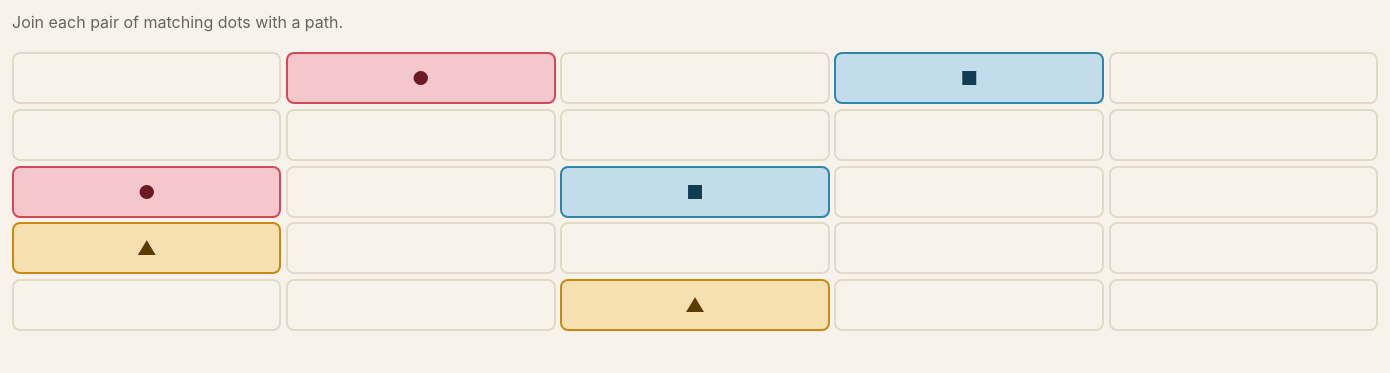
Scenario: ConnectDotsGame › says which pair is being drawn and when one is connected
Click the 2nd button "■": (695, 192) [560,166,830,218]
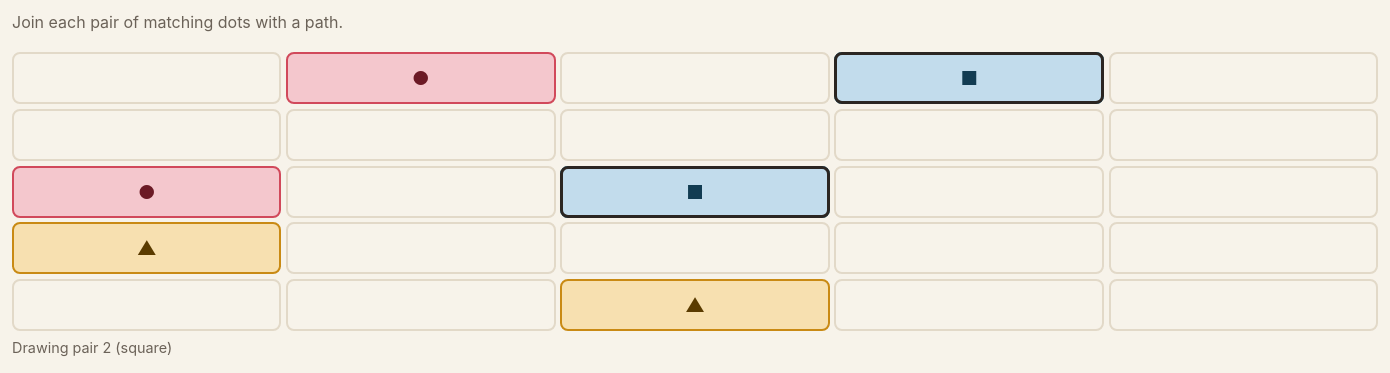
Result: the text "Drawing pair 2 (square)" is shown at [12,339,172,356]
Click the 2nd button "●": (147, 192) [12,166,281,218]
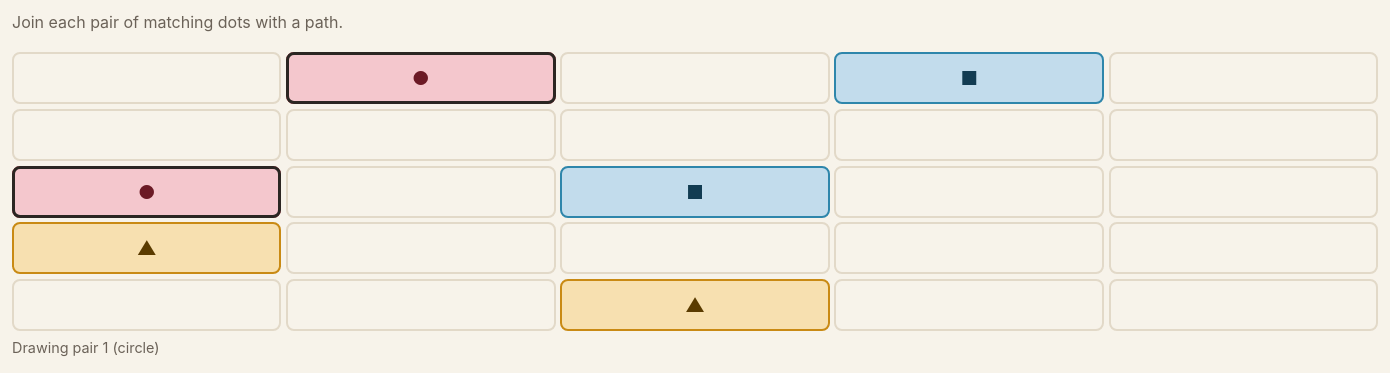
Click the button named "Row 2, column 1, empty": (147, 135) [12,109,281,161]
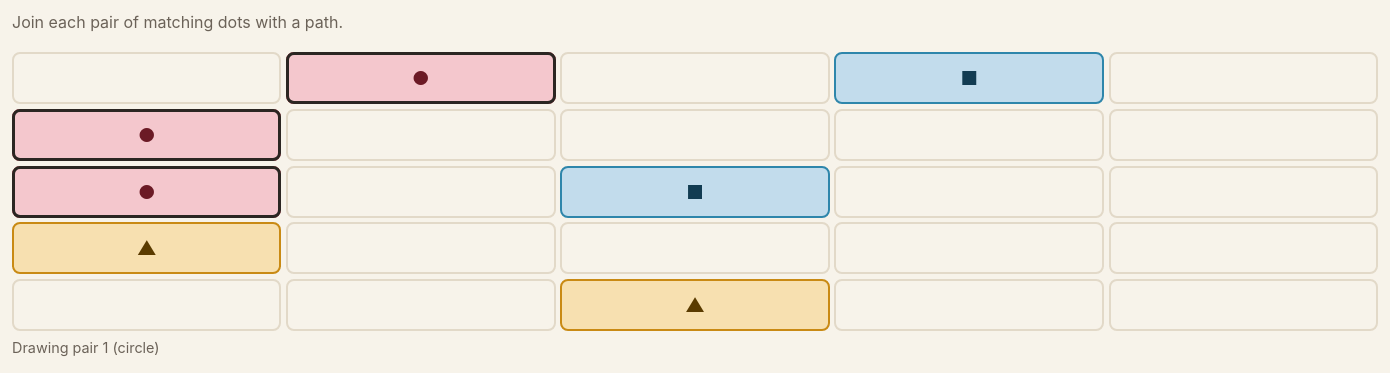
Click the button named "Row 1, column 1, empty": (147, 78) [12,52,281,104]
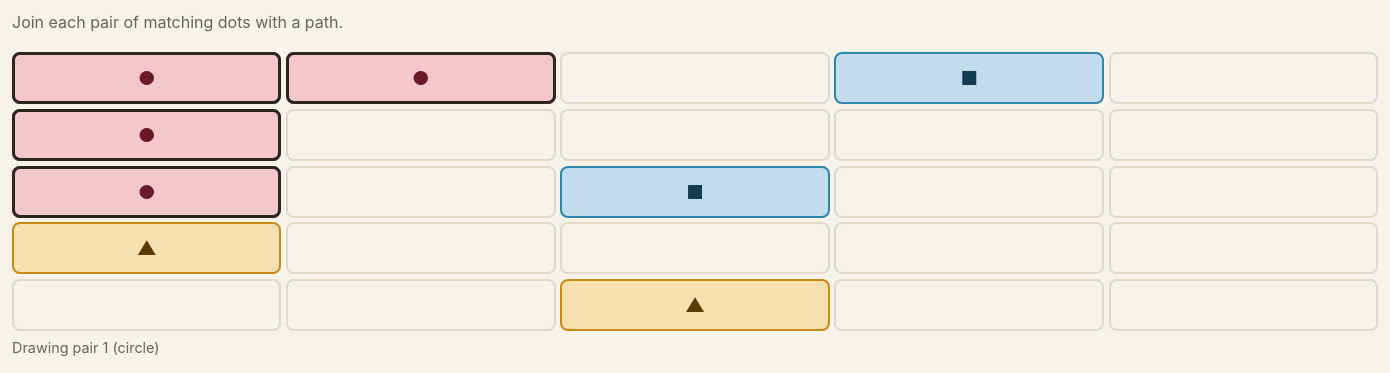
Click the 2nd button "●": (421, 78) [286,52,556,104]
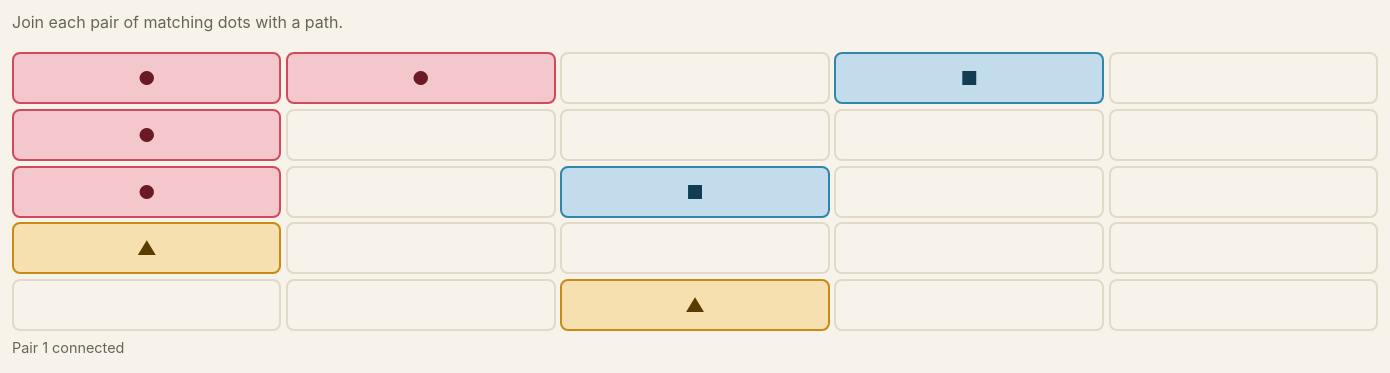
Result: the text "Pair 1 connected" is shown at [12,339,124,356]
